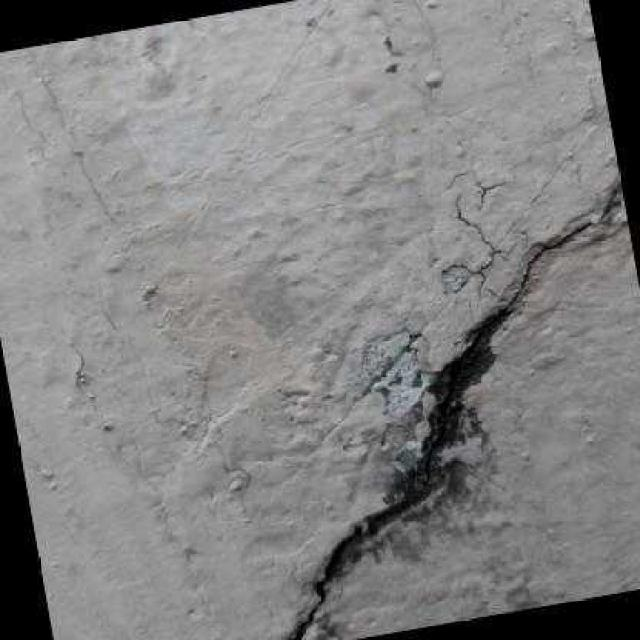D00: (288, 174, 622, 640)
